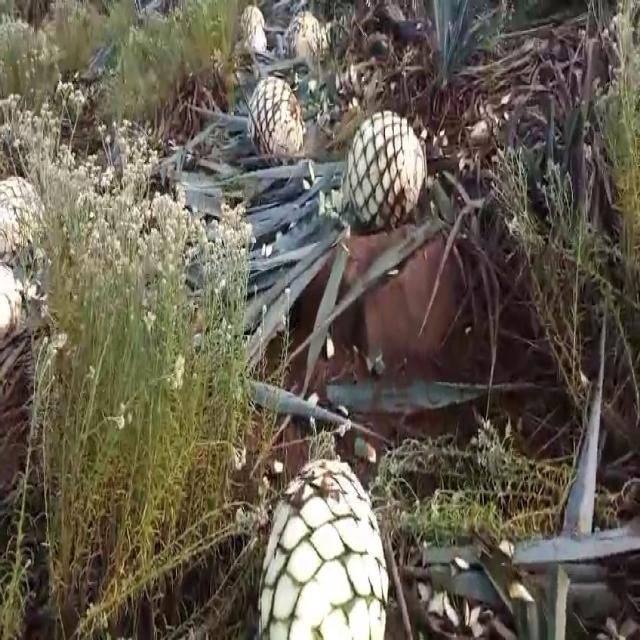agave: (249, 433, 393, 640), (343, 103, 425, 235), (242, 70, 303, 167), (287, 6, 326, 65), (234, 3, 265, 48)
